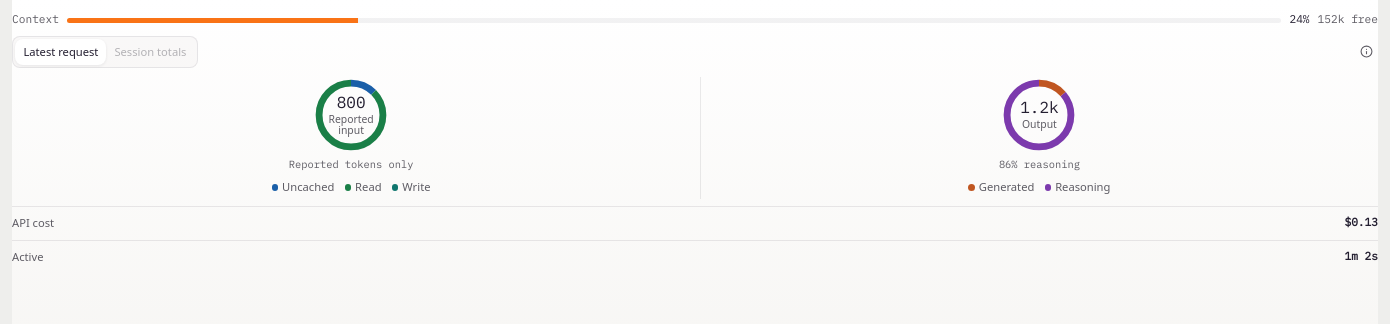
Test: SessionUsageBar › distinguishes missing counts from zeros and suppresses uncertain percentages
This screenshot has width=1390, height=324.
expect the text "Reported tokens only" is shown: met, box [289, 156, 414, 172]
What coordinates should you click on to do the following:
click the button with aria-label "Cache write: not reported"
I would click on:
 (411, 187)
Its box is [388, 175, 434, 199].
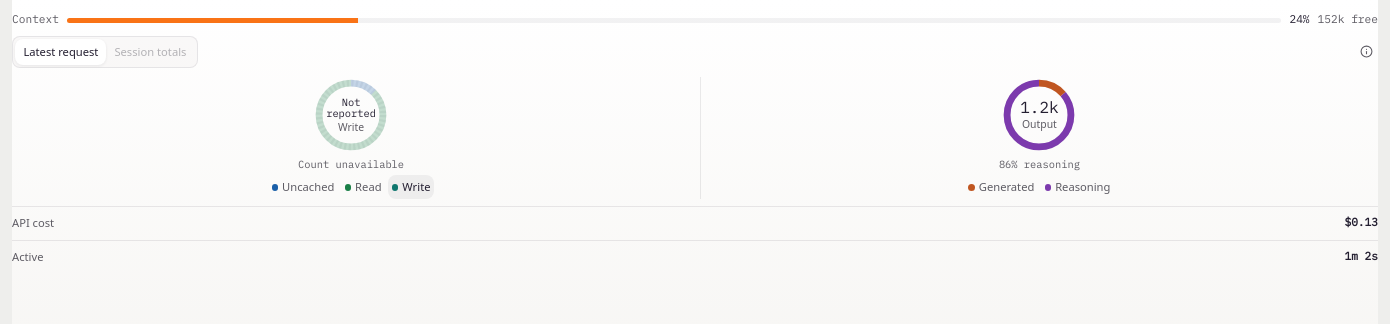
expect the text "Not reported" is shown: met, box [326, 95, 376, 120]
expect the text "Count unavailable" is shown: met, box [298, 156, 404, 172]
